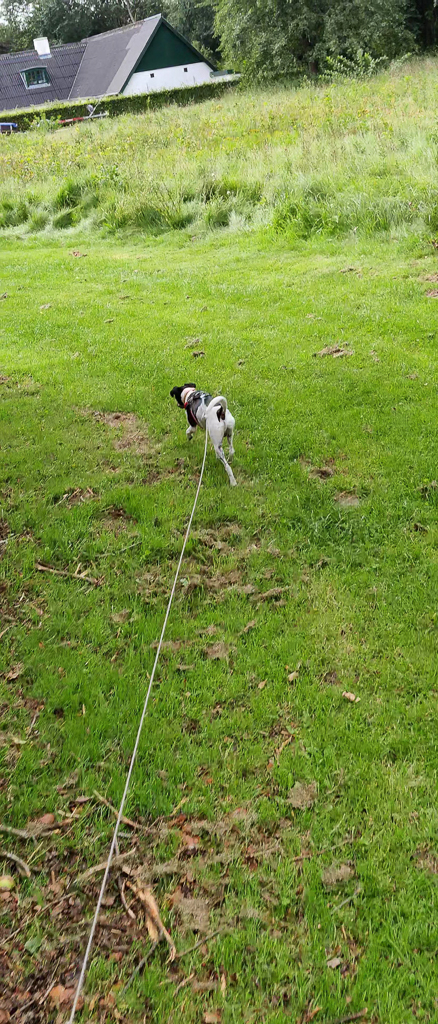Dog: (164, 372, 254, 495)
